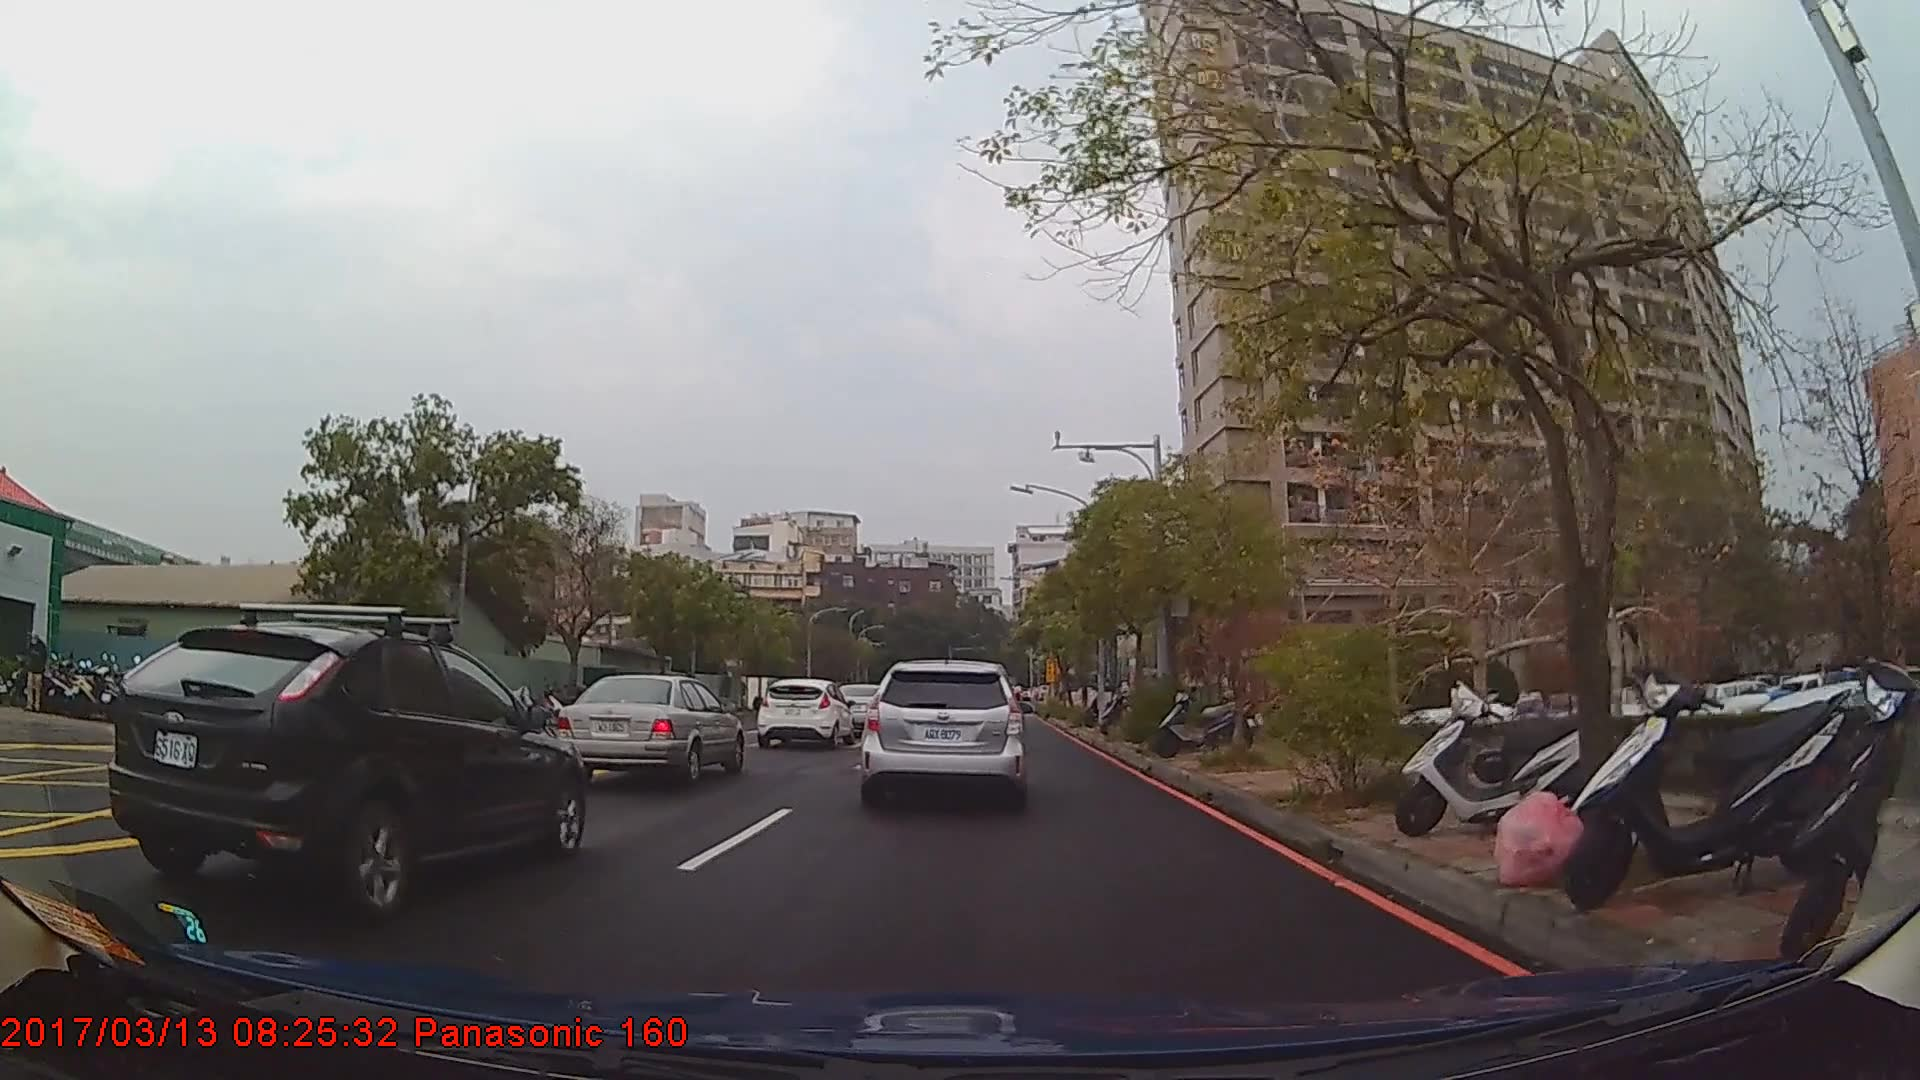pedestrian: (25, 631, 50, 714)
vehicle: (107, 620, 586, 917), (859, 656, 1024, 808), (550, 673, 744, 785), (753, 675, 853, 750)
